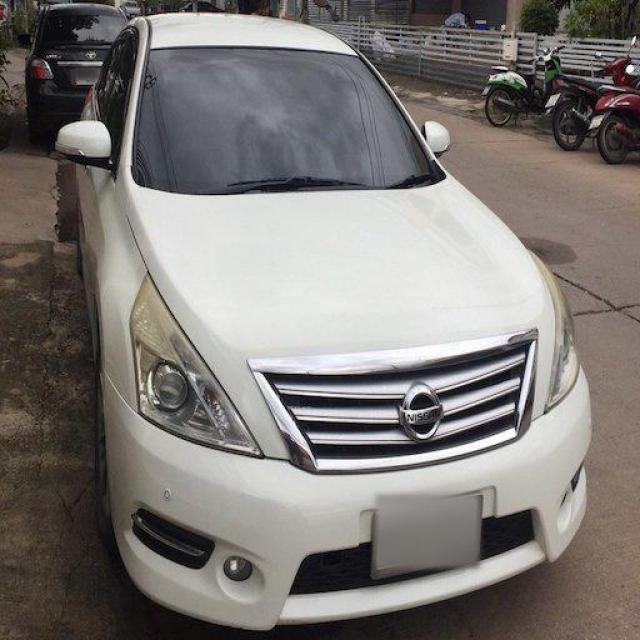back_right_door: (78, 25, 132, 185)
front_bumper: (99, 362, 595, 632)
front_glass: (130, 44, 448, 195)
front_left_light: (524, 247, 581, 408)
front_right_door: (78, 25, 140, 304)
front_right_light: (128, 272, 266, 457)
hood: (127, 174, 556, 475)
left_mirror: (419, 120, 454, 158)
right_mirror: (53, 120, 120, 171)
